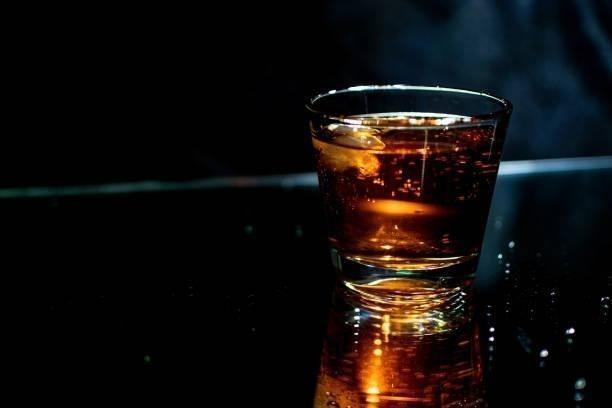glass-normal: (304, 83, 515, 302)
